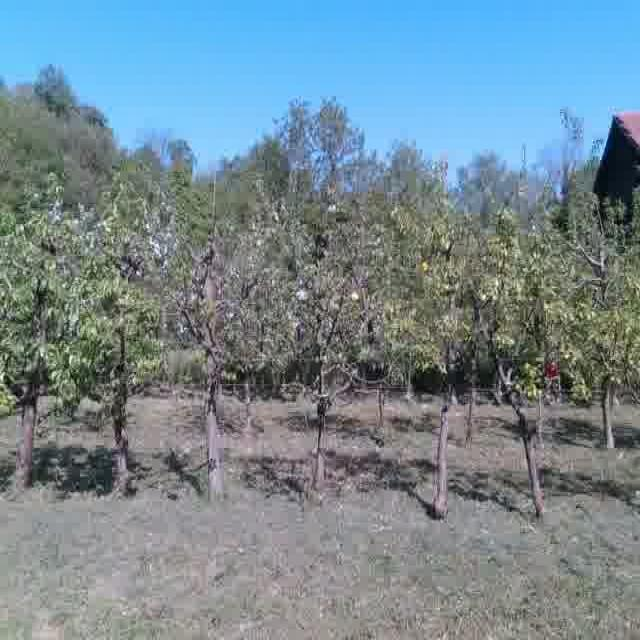red: (546, 360, 561, 380)
yellow: (420, 259, 431, 273)
